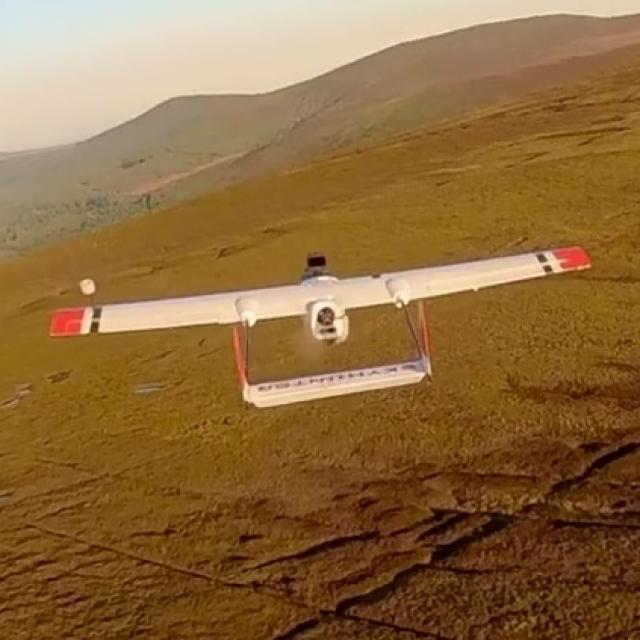iha: (47, 234, 596, 409)
